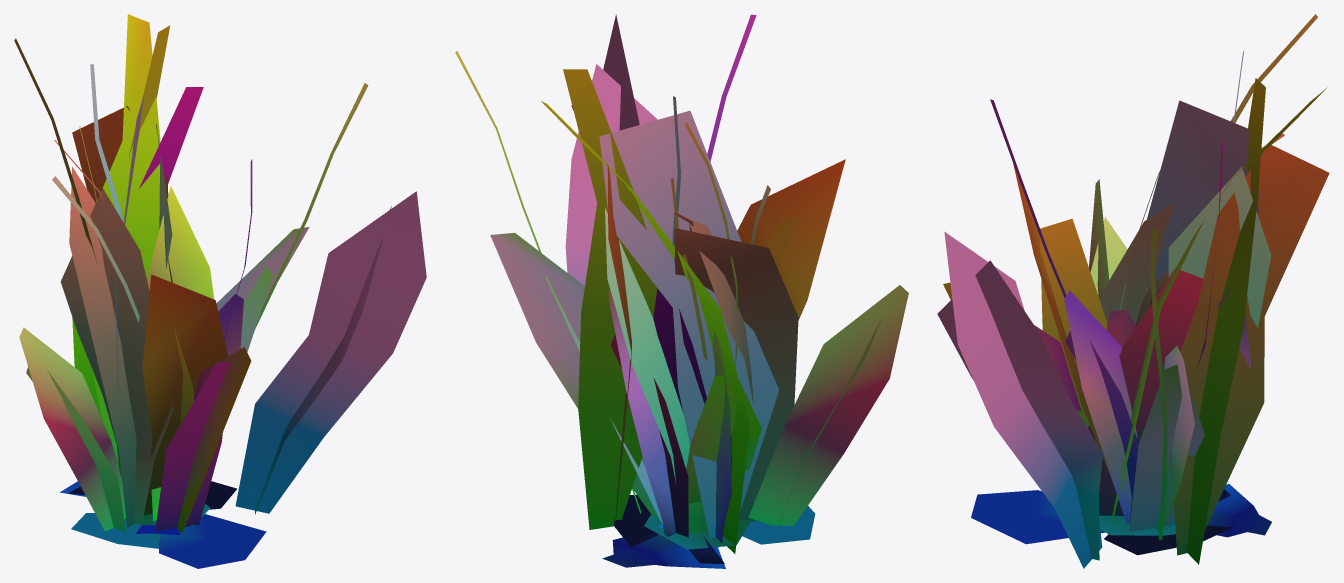
File: uddmcgbia_VarC_LOD0.fbx
The picture shows the model from 3 angles, left to right: view 1: azimuth 30°, elevation 25°; view 2: azimuth 150°, elevation 25°; view 3: azimuth 270°, elevation 25°; orthographic projection. The views are drawn at different scales.
Parts seen in each view (by area): view 1: _01d2_VarC_LOD1; view 2: _01d2_VarC_LOD1; view 3: _01d2_VarC_LOD1.
Boxes of the visible parts, x1,y1,x2,y2 form: _01d2_VarC_LOD1: (14,14,426,568); _01d2_VarC_LOD1: (455,14,908,568); _01d2_VarC_LOD1: (937,14,1329,568).
Bounding box in the file's own units: 11.57 × 12.98 × 9.58.
